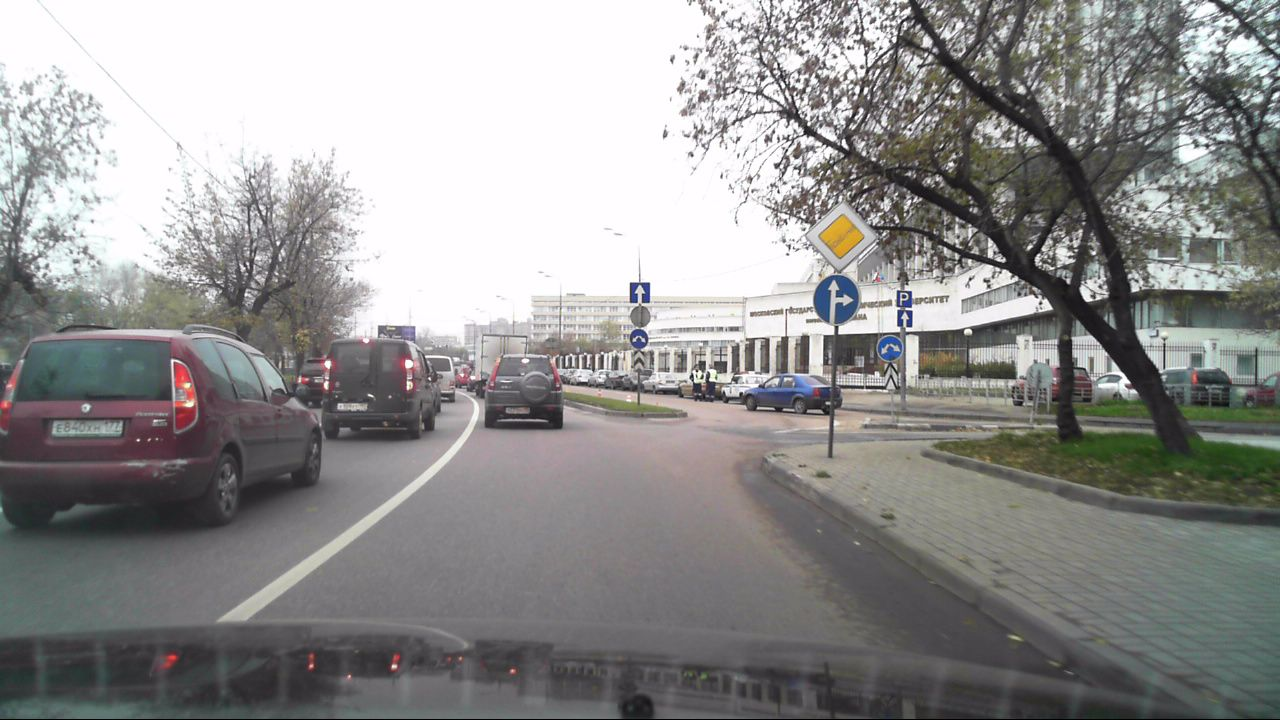main road: (803, 200, 879, 273)
